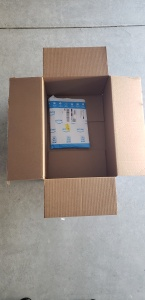innerbox: (41, 75, 117, 178)
outerbox: (10, 48, 145, 218)
product: (48, 98, 89, 148)
